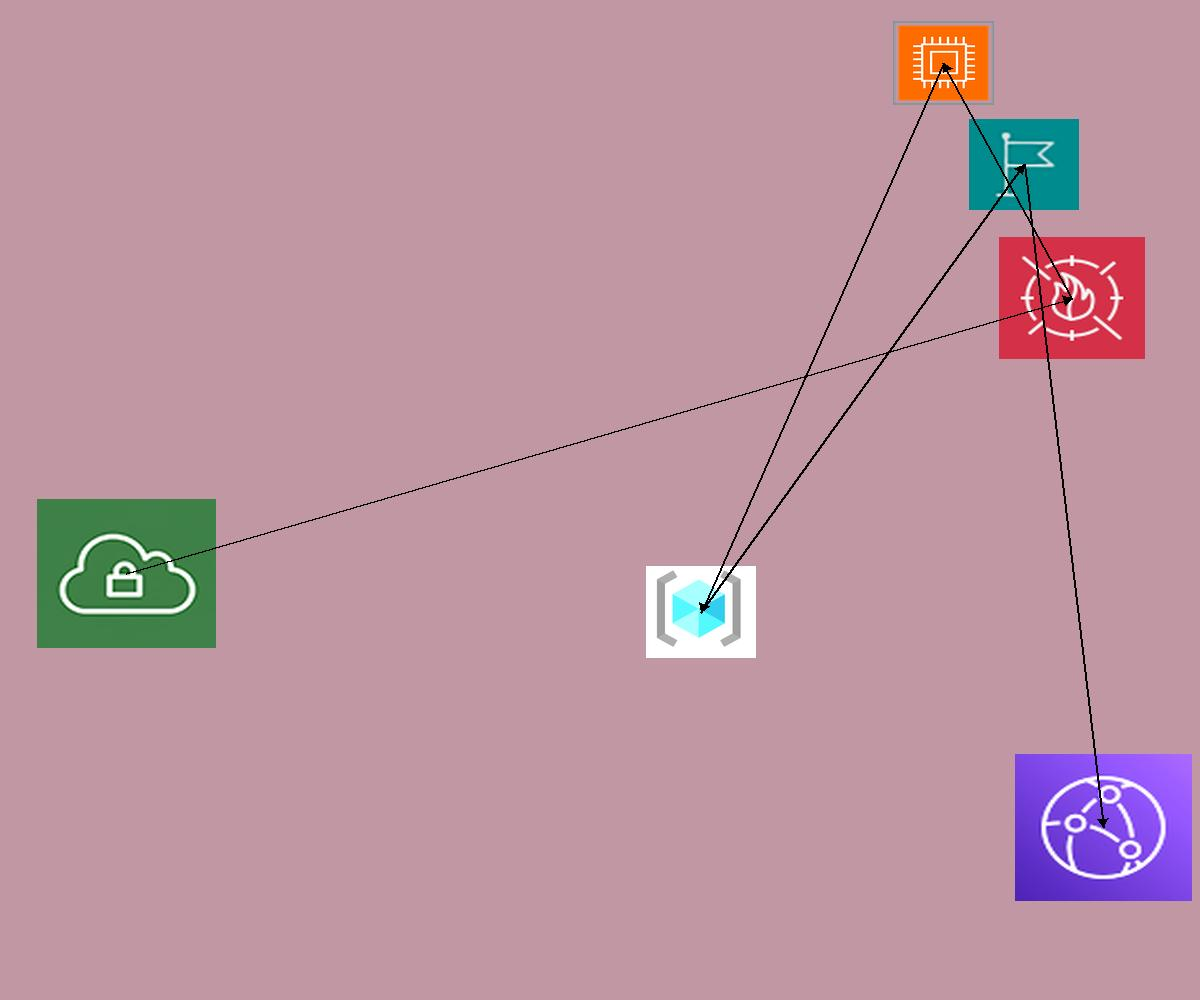AWS-Category_Compute: (893, 21, 994, 105)
AWS-CloudFront: (1015, 754, 1192, 901)
AWS-Private_vpc: (37, 499, 216, 648)
AWS-Region: (969, 119, 1079, 210)
AWS-WAF: (999, 237, 1145, 359)
Azure_resource_group: (646, 566, 756, 658)
